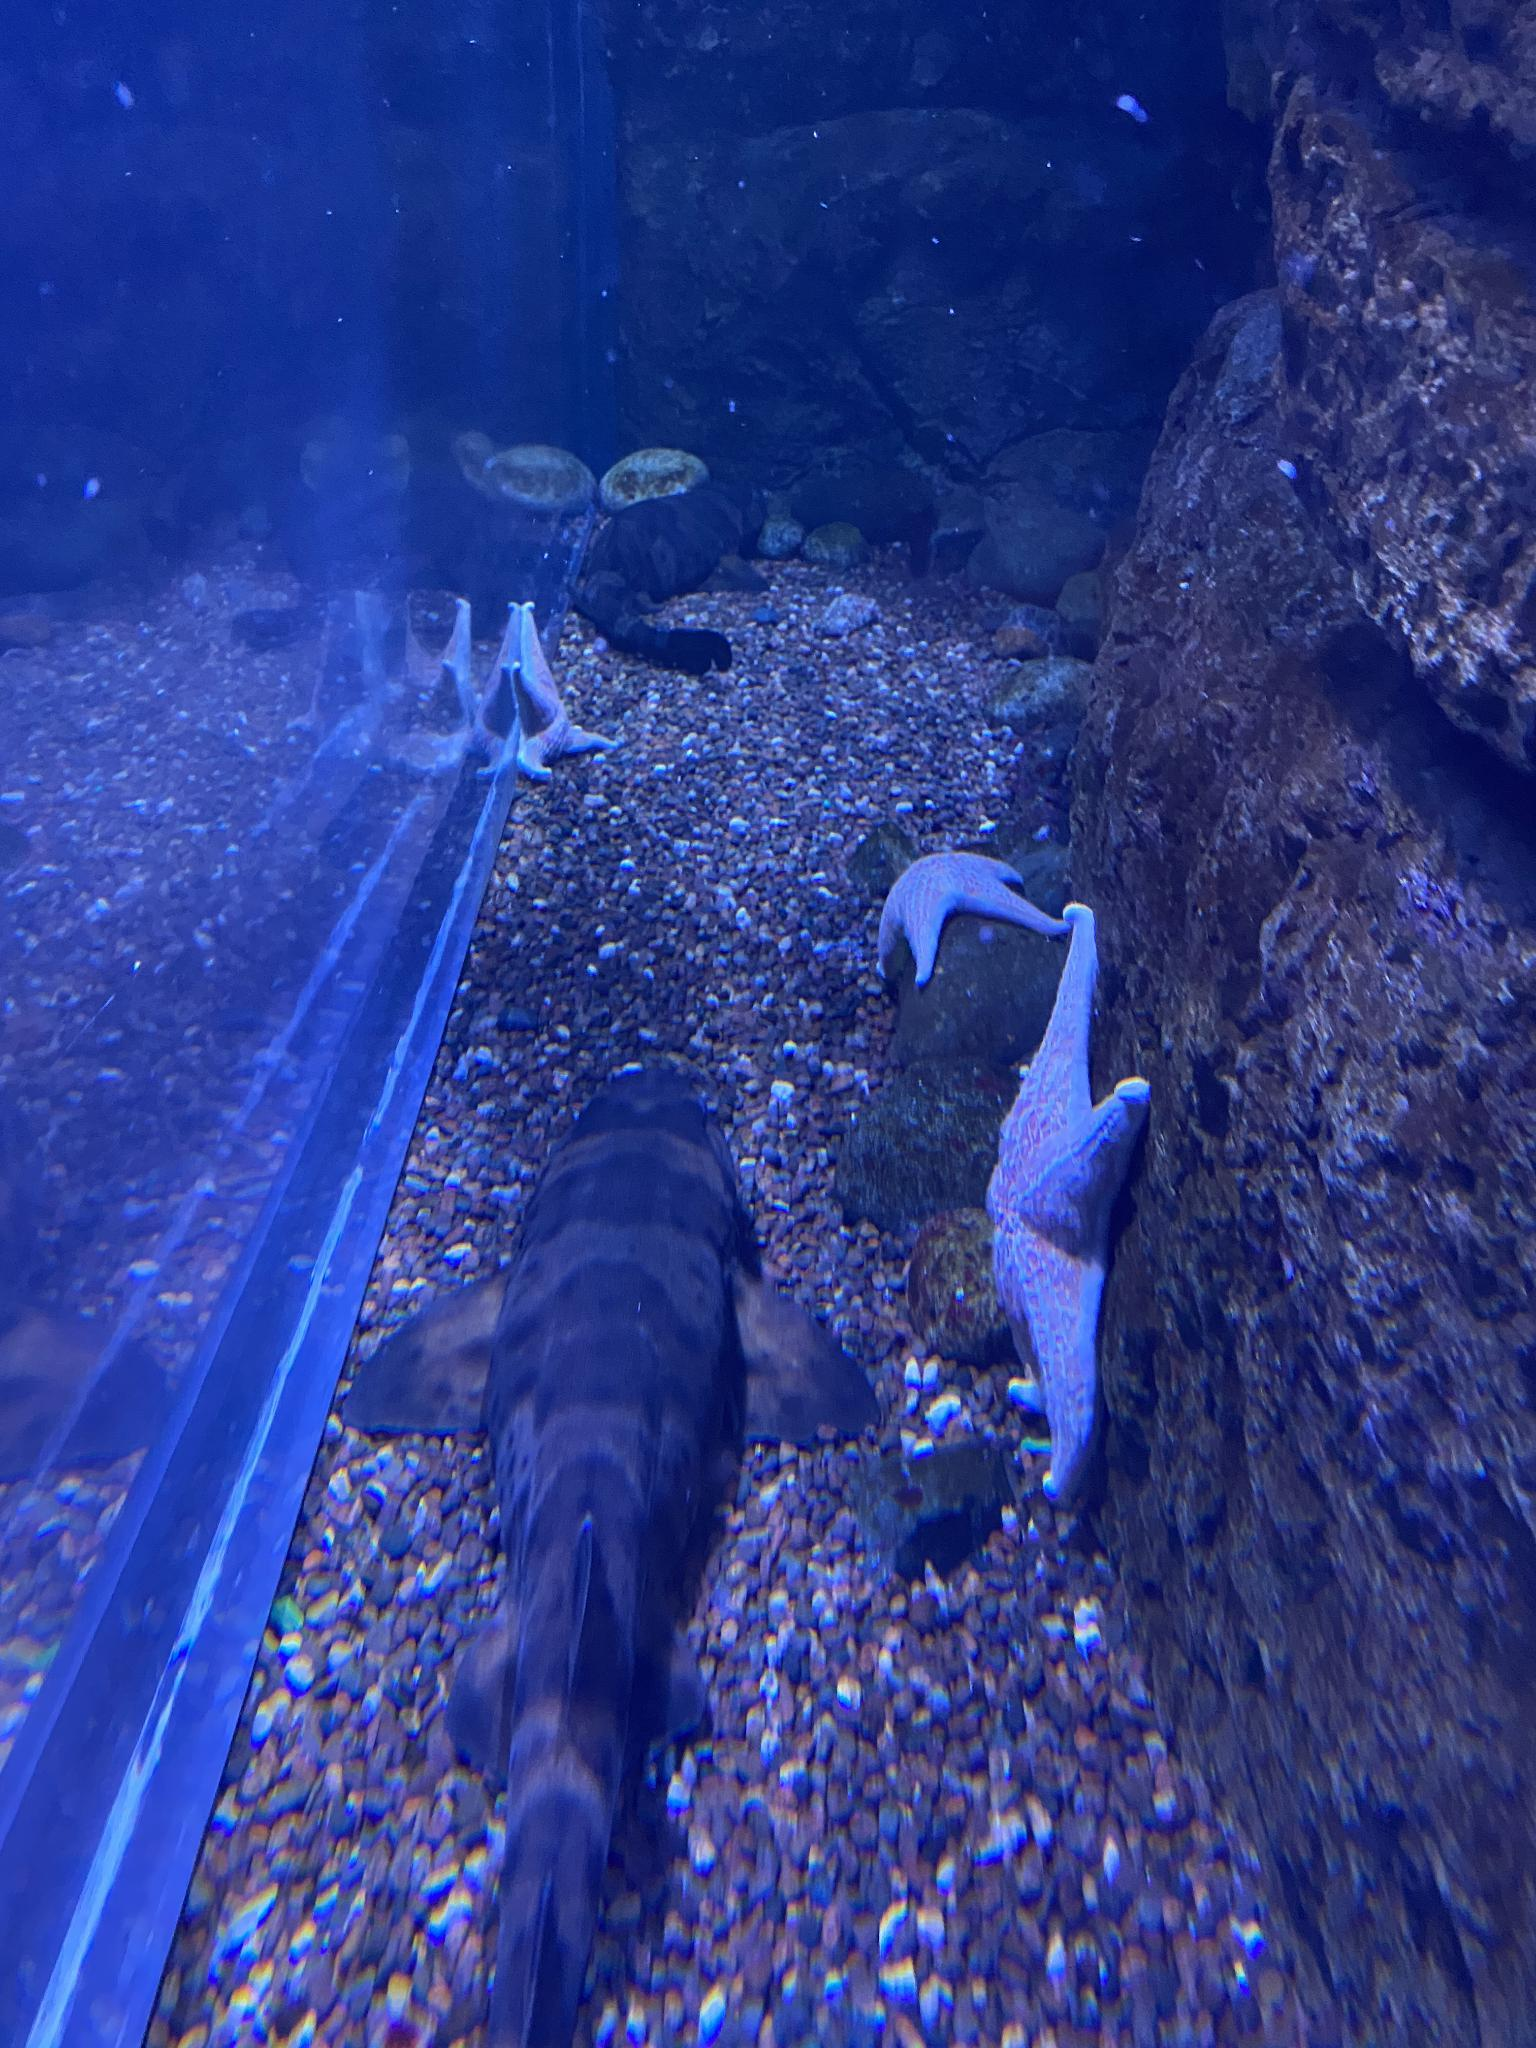shark: (363, 1051, 850, 2045)
starfish: (984, 926, 1149, 1506), (842, 839, 1063, 985), (494, 601, 616, 785)
